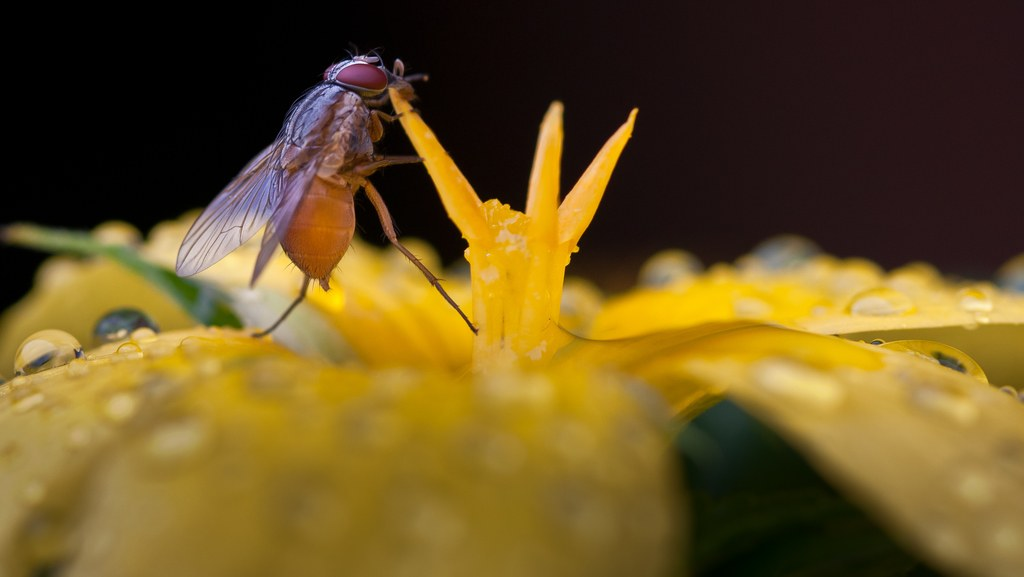insect: (173, 47, 479, 338)
